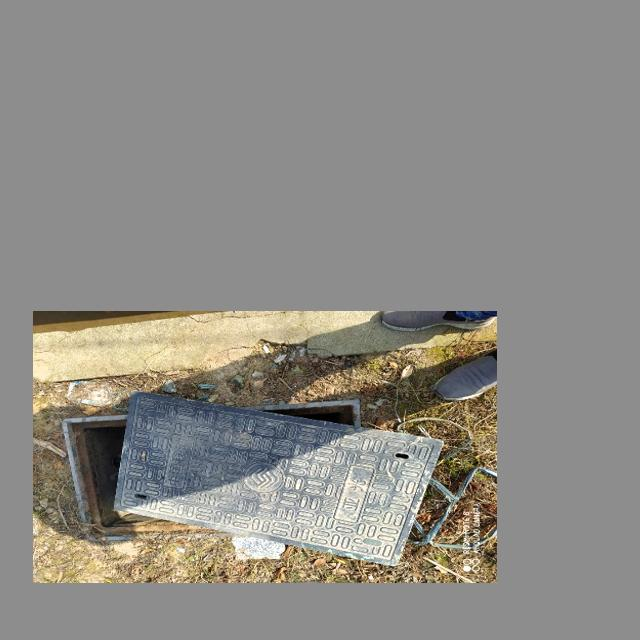uncovered: (58, 392, 443, 567)
